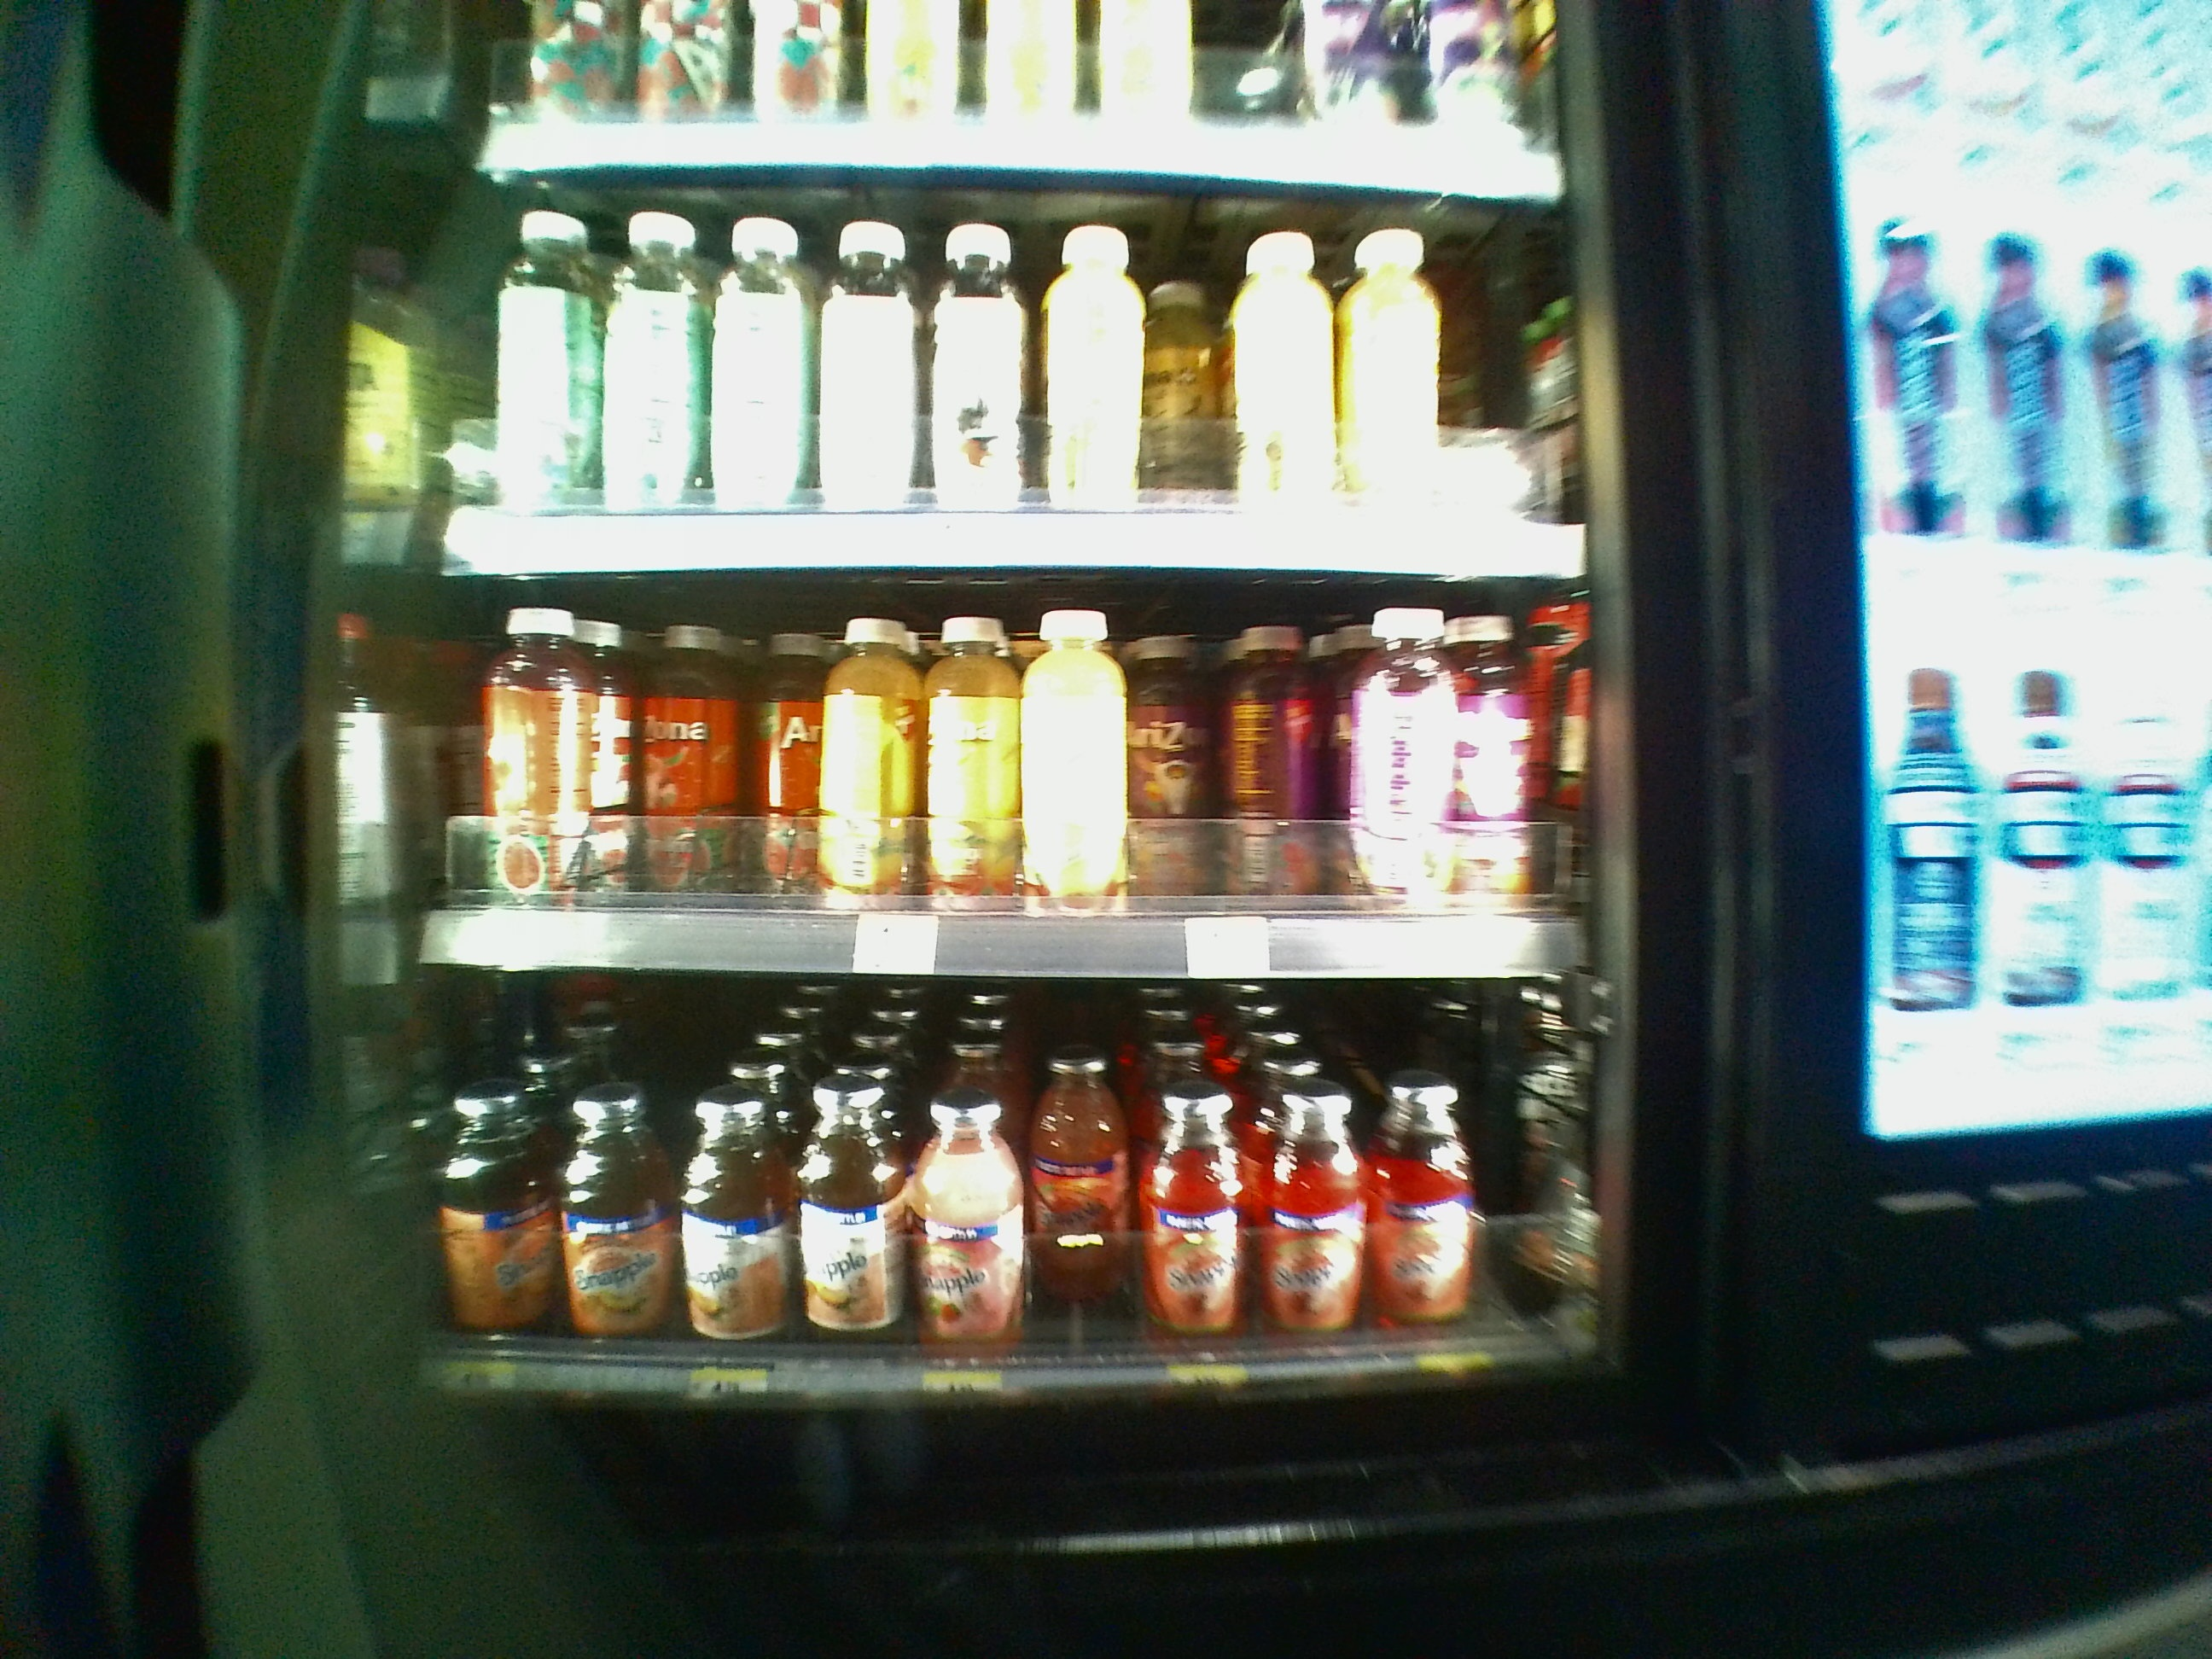shelf: (427, 166, 1581, 573), (421, 985, 1578, 1385), (416, 592, 1581, 974)
